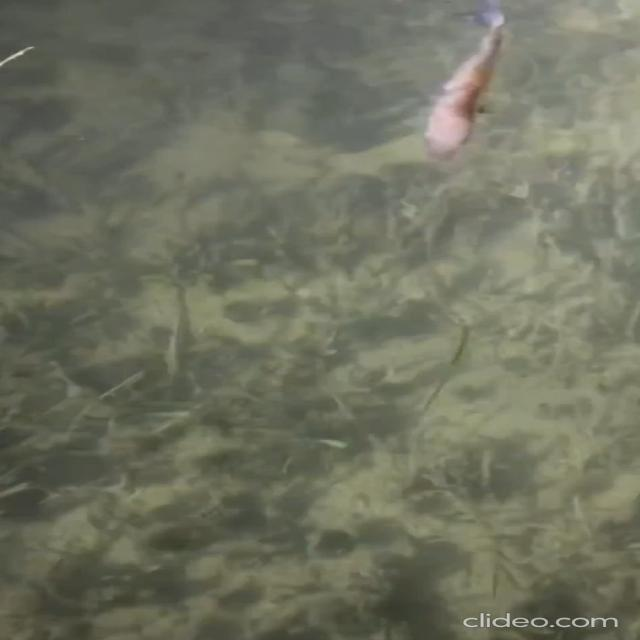fish: (418, 1, 509, 163)
